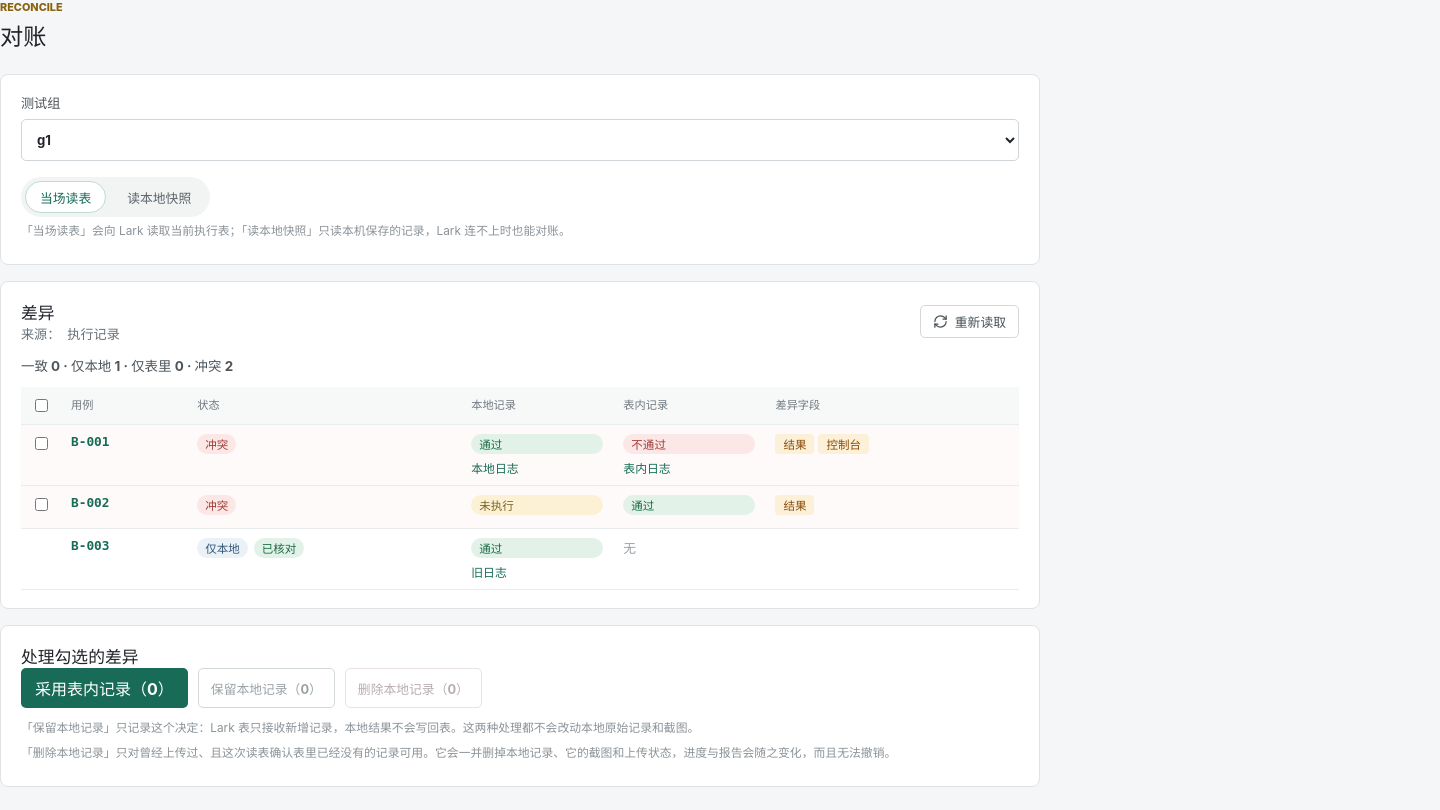
it: reports each skip reason the server returned
This screenshot has width=1440, height=810.
What coordinates should you click on to do the following:
click the checkbox named "选择 B-001"
I would click on:
 (42, 444)
Its box is [35,437,48,450].
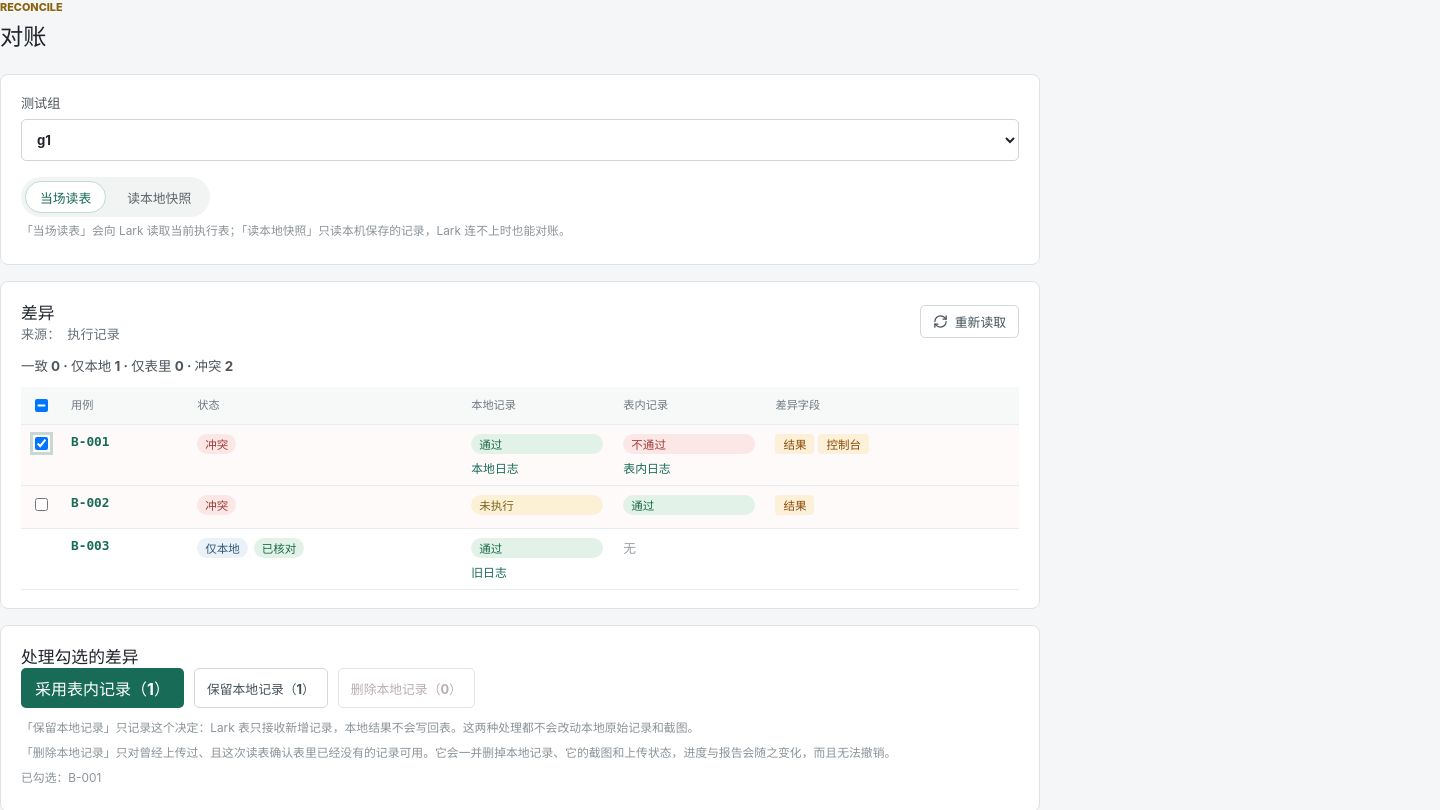
What coordinates should you click on to do the following:
click the button "采用表内记录（1）"
I would click on:
 (102, 688)
Its box is [21,668,184,708].
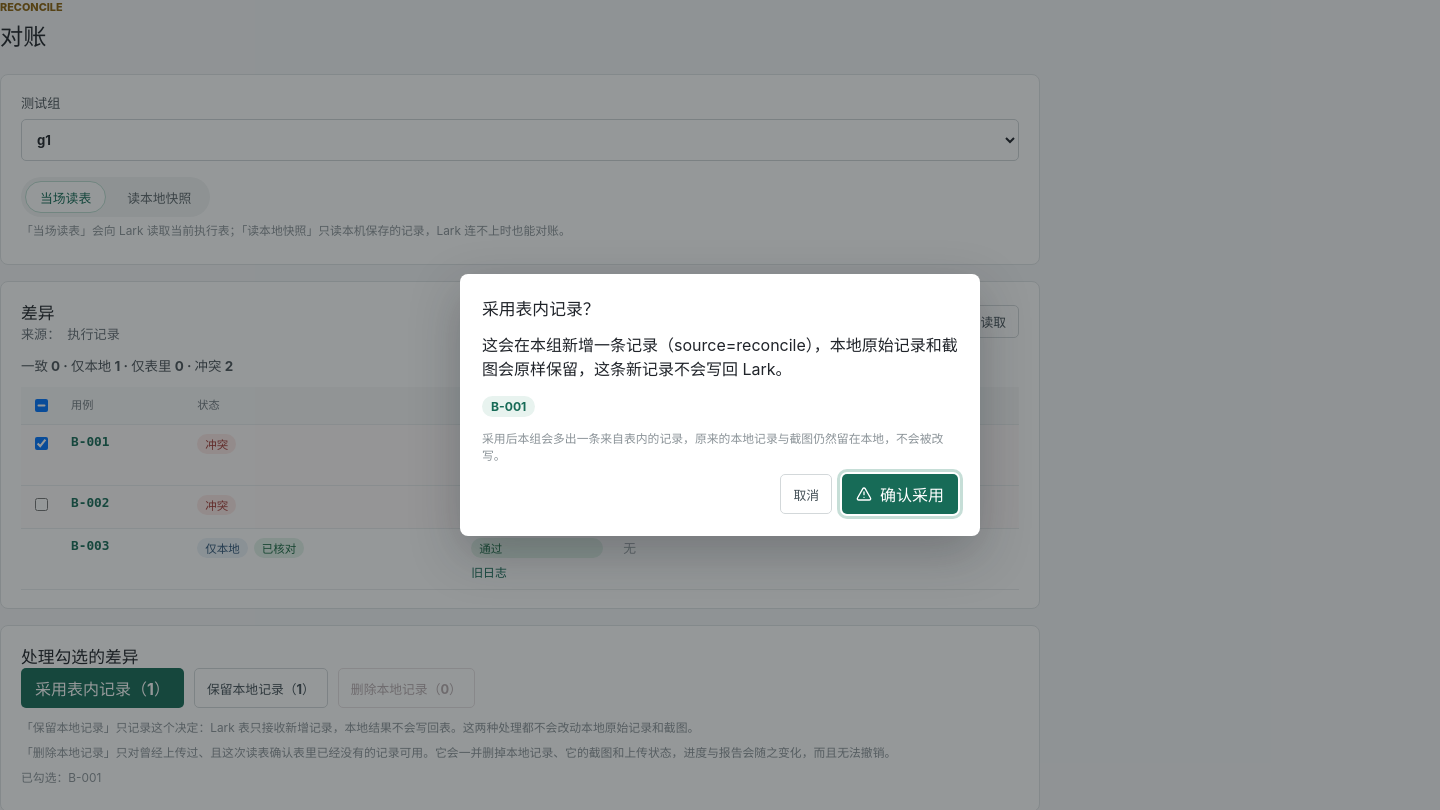
What coordinates should you click on to do the following:
click the button "确认采用"
I would click on:
 (900, 494)
Its box is [842,474,958,514].
(page scrolled)
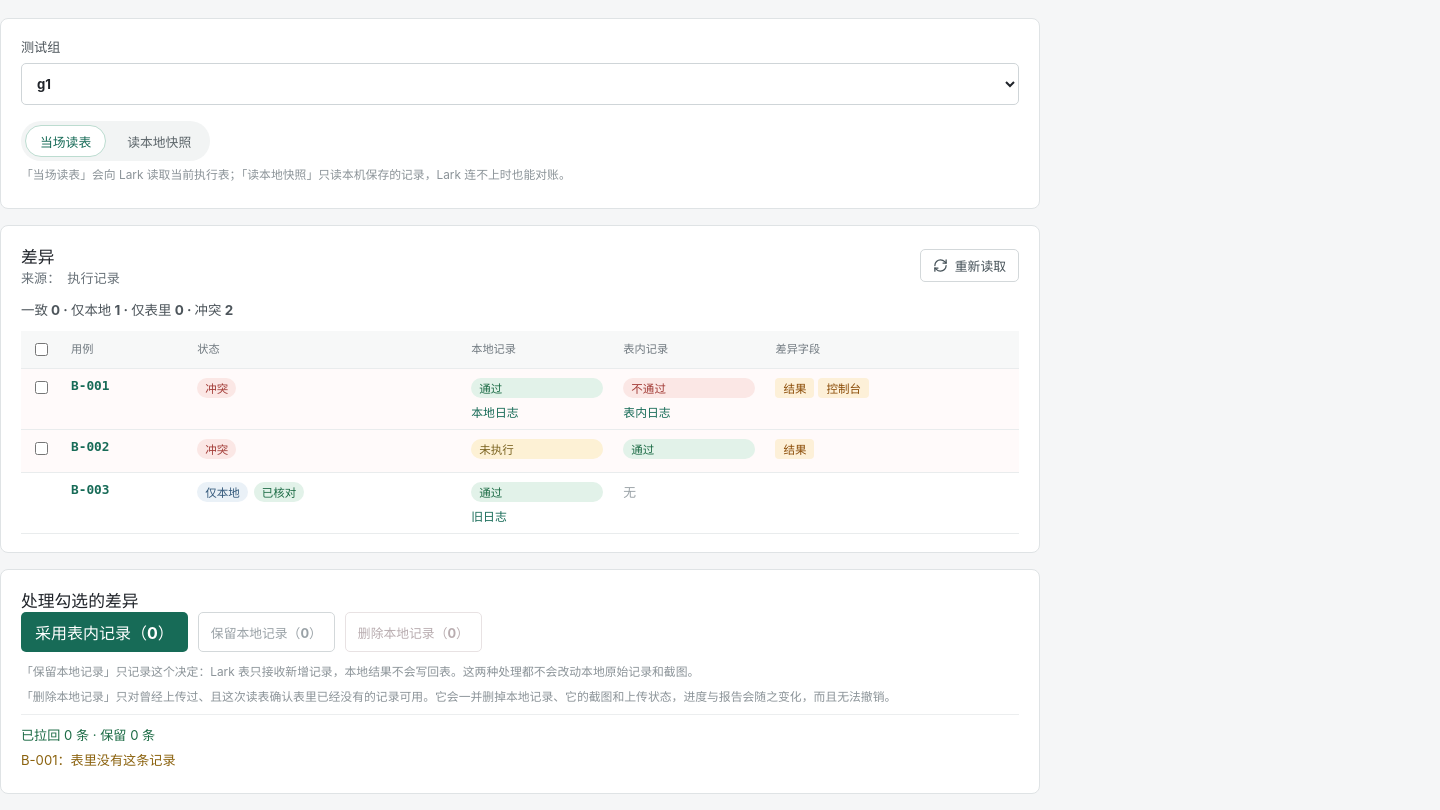
Now the text "已拉回 0 条 · 保留 0 条" is shown, box [21,727,155,743]
Now the text "B-001：表里没有这条记录" is shown, box [21,752,176,768]
